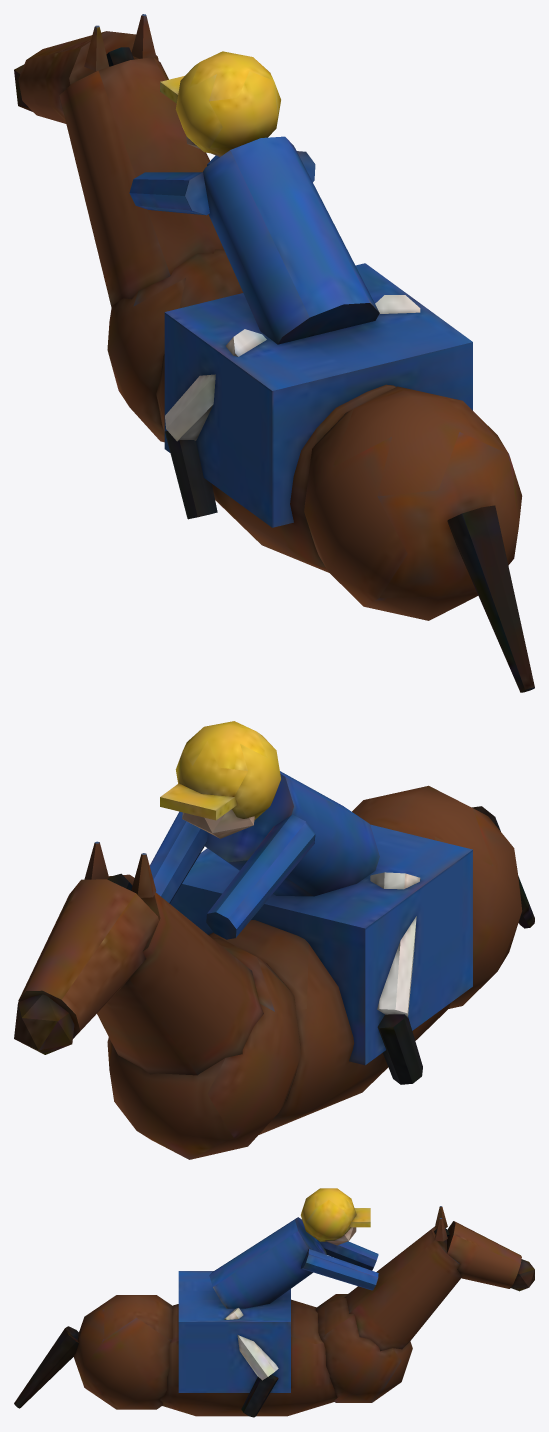
Rendered from caballo_derby_azul.glb.
3 renders of one model, top to bottom at view 1: azimuth 30°, elevation 25°; view 2: azimuth 150°, elevation 25°; view 3: azimuth 270°, elevation 25°, orthographic. The views are drawn at different scales.
Parts seen in each view (by area): view 1: caballo_derby_azul; view 2: caballo_derby_azul; view 3: caballo_derby_azul.
Part boxes in pixels (x1,y1,x2,y2): caballo_derby_azul: (14, 14, 534, 692); caballo_derby_azul: (14, 721, 534, 1159); caballo_derby_azul: (14, 1188, 534, 1417).
Size of the model in its own units: 1.03 by 1.77 by 3.71.
1 material, 1 textured.
